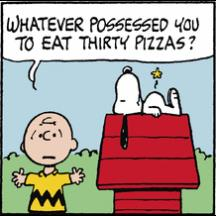charlie: (11, 109, 88, 215)
snoopy: (111, 65, 183, 151)
